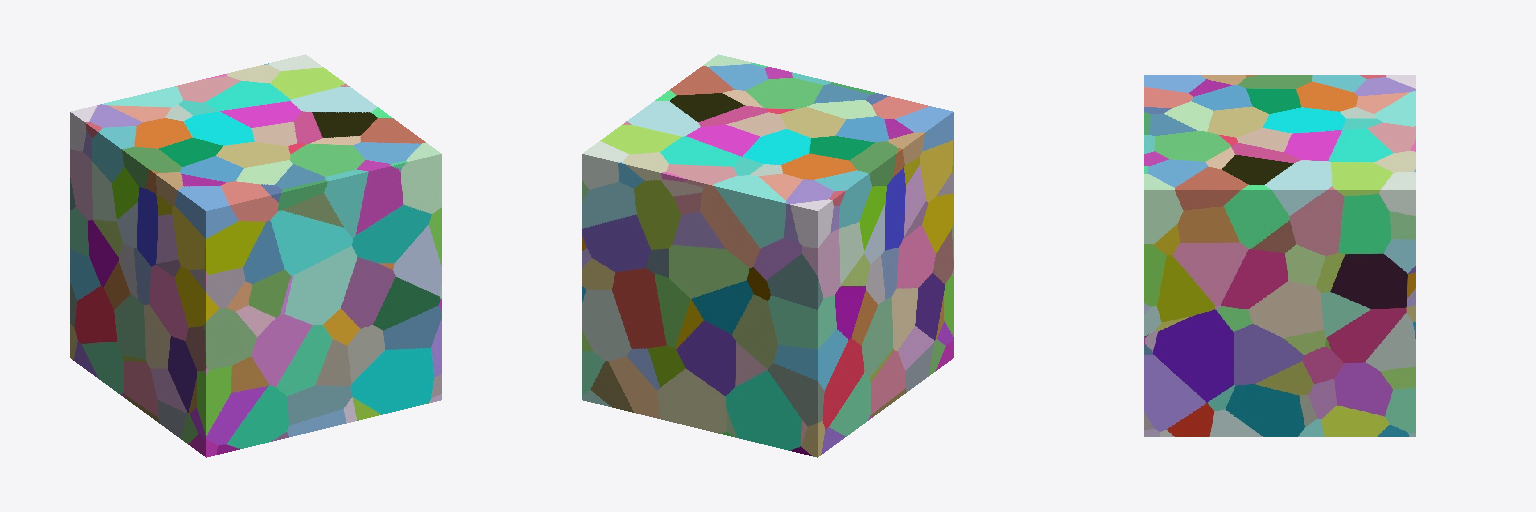
3 views of the same model, side by side, from view 1: azimuth 30°, elevation 25°; view 2: azimuth 150°, elevation 25°; view 3: azimuth 270°, elevation 25° (orthographic).
Parts seen in each view (by area): view 1: Cube; view 2: Cube; view 3: Cube.
Boxes of the visible parts, <box> form: Cube: <box>70,54,441,457</box>; Cube: <box>582,54,953,457</box>; Cube: <box>1144,75,1415,436</box>.
Bounding box in the file's own units: 2 × 2 × 2.
1 materials, 1 textured.